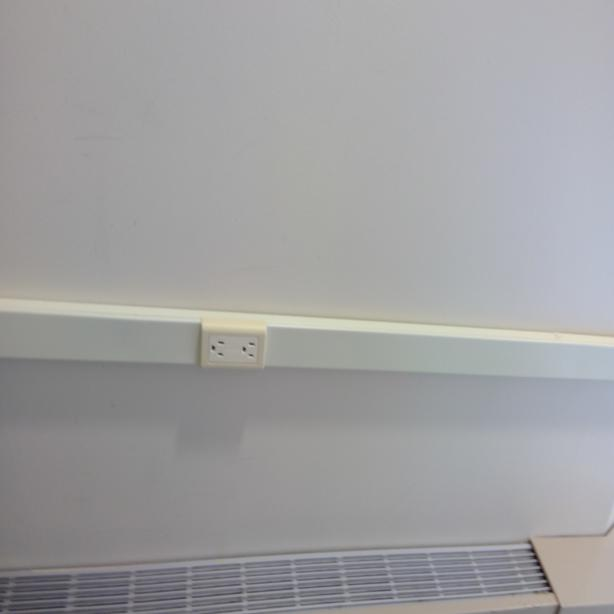typeb: (208, 334, 229, 362), (240, 336, 258, 363)
